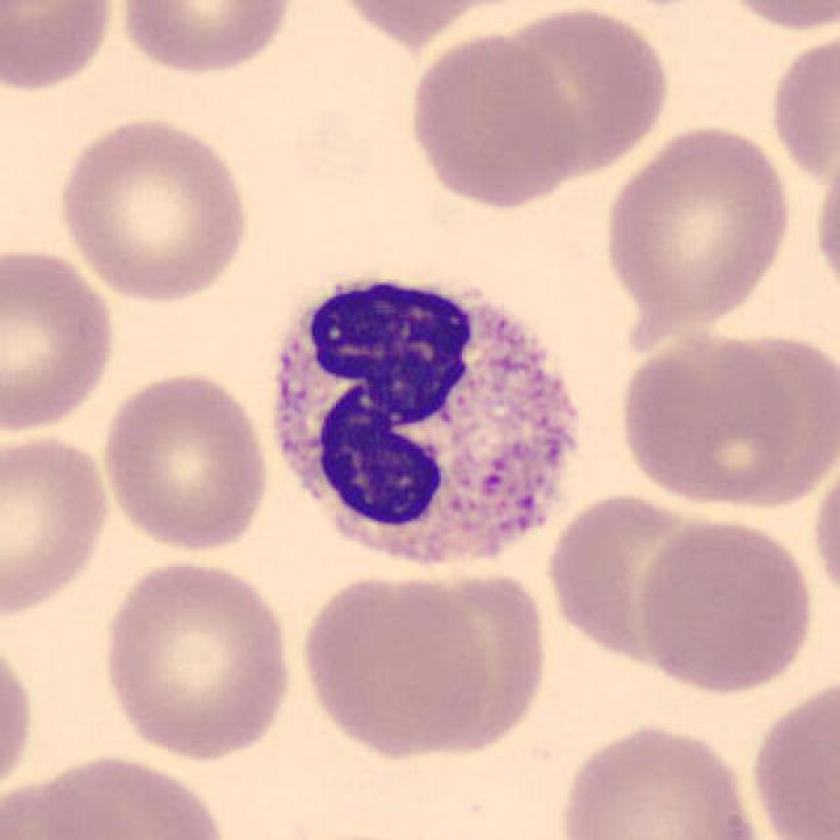neutrophil: (277, 279, 575, 563)
